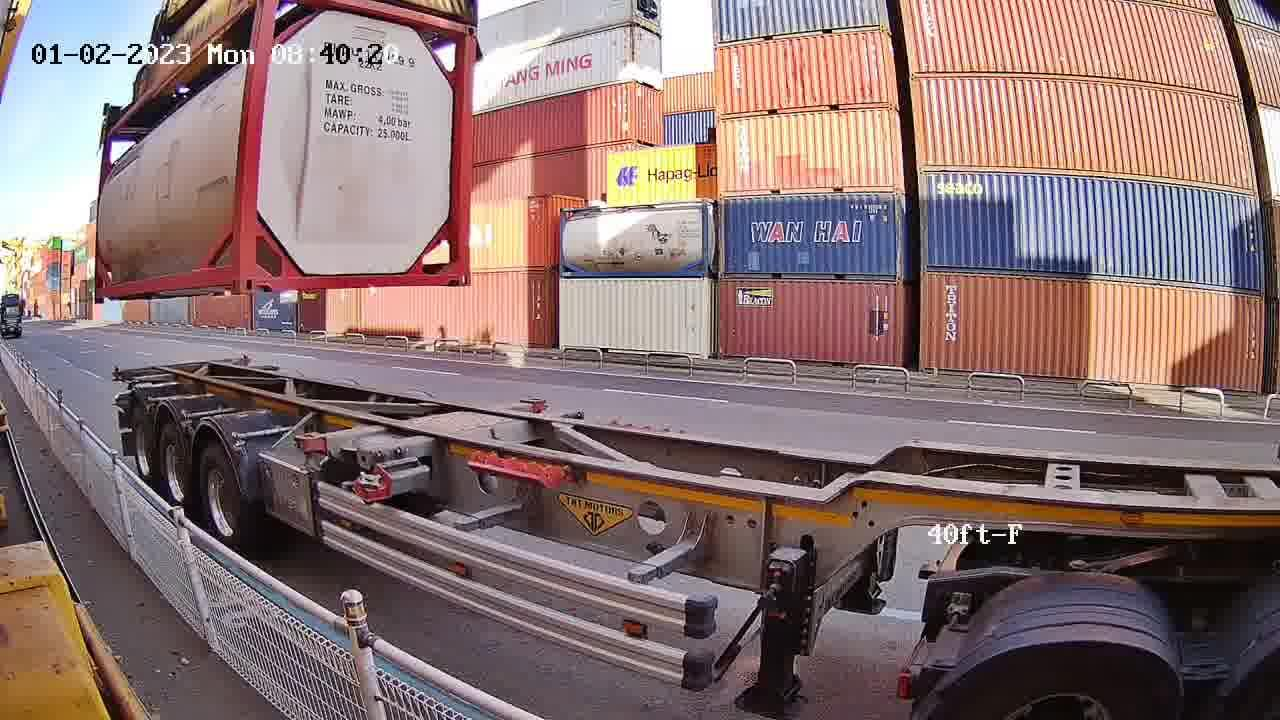Chassis: (300, 400, 548, 443)
Cone: (296, 432, 325, 472)
Hole_L: (240, 258, 279, 292)
Hole_R: (444, 254, 471, 285), (218, 260, 241, 294)
Tire: (197, 444, 245, 549), (158, 424, 192, 510), (130, 407, 157, 484)
